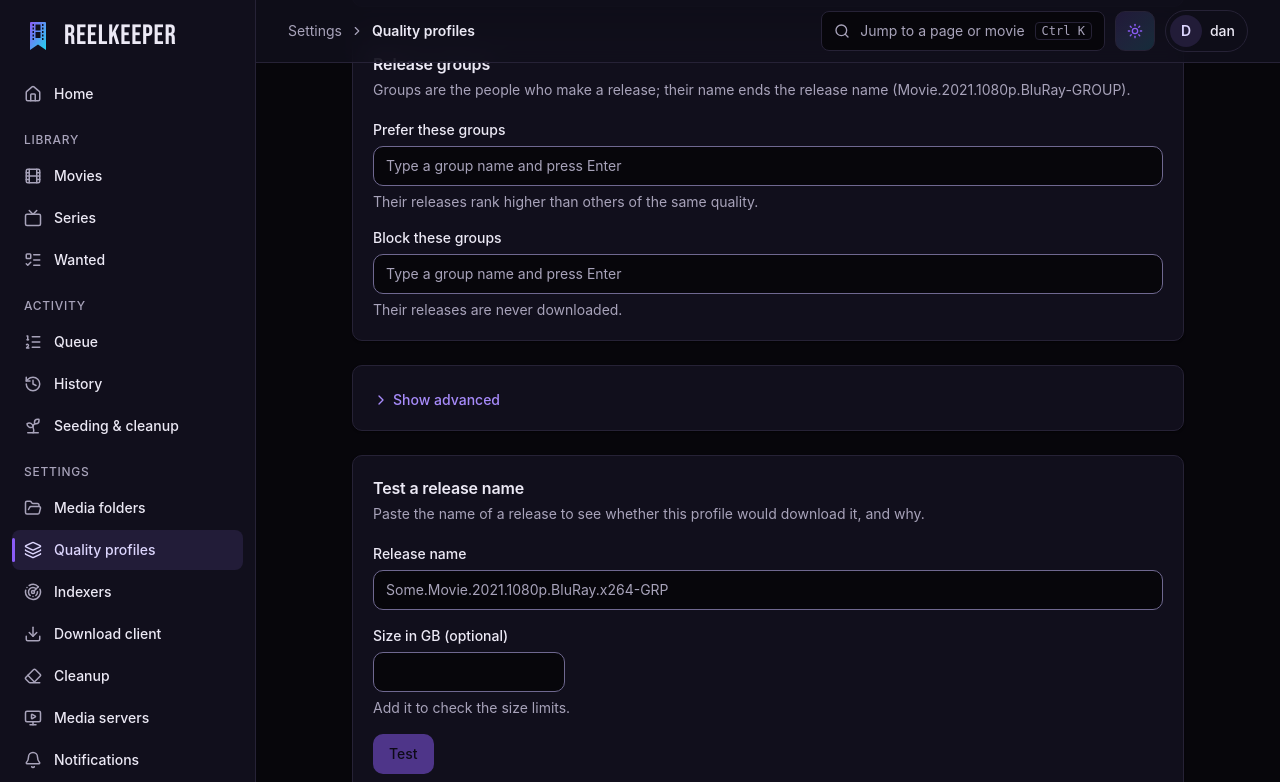
Test case: profile settings page › asks before switching to advanced, then shows the advanced editor
(page scrolled)
What coordinates should you click on to do the following:
click the button "Show advanced"
I would click on:
 (436, 400)
Its box is [373,390,500,410].
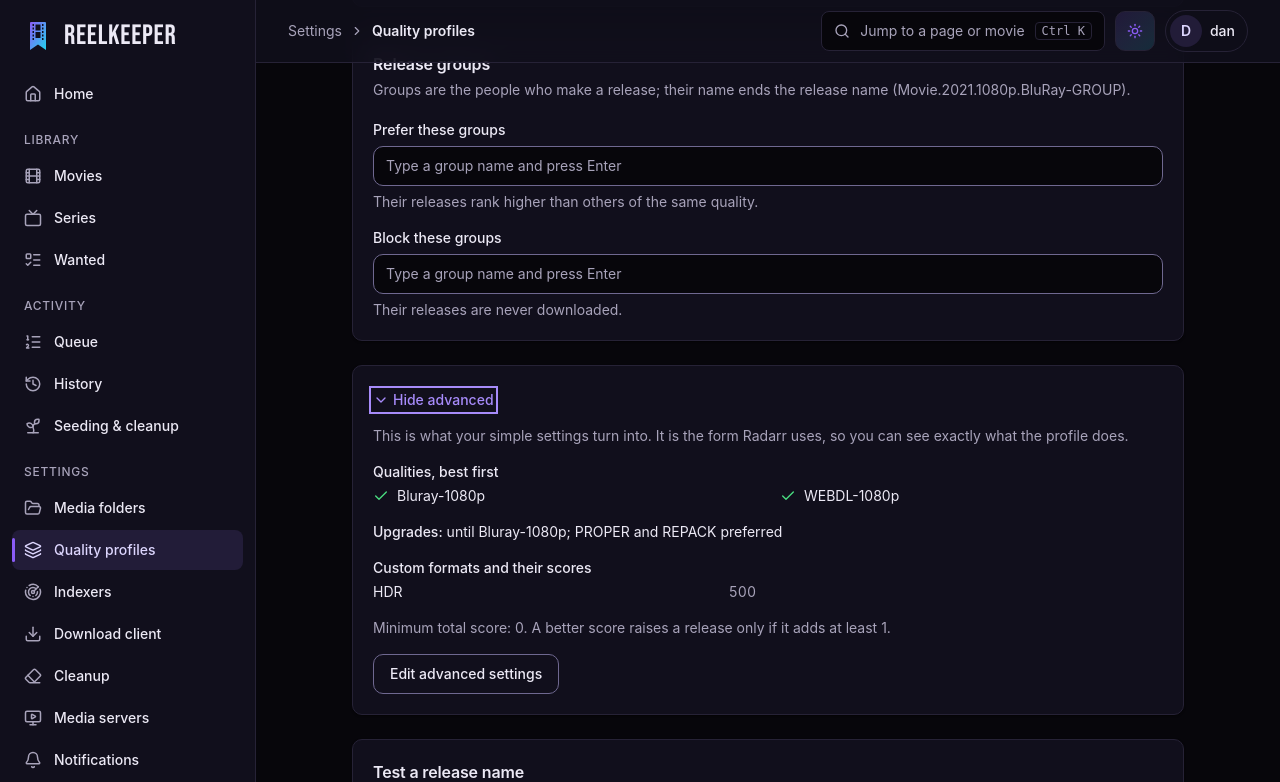
Expected: the heading "Custom formats and their scores" is shown, [373,559,592,576]
What coordinates should you click on to do the following:
click the button "Edit advanced settings"
I would click on:
 (466, 674)
Its box is [373,654,559,694].
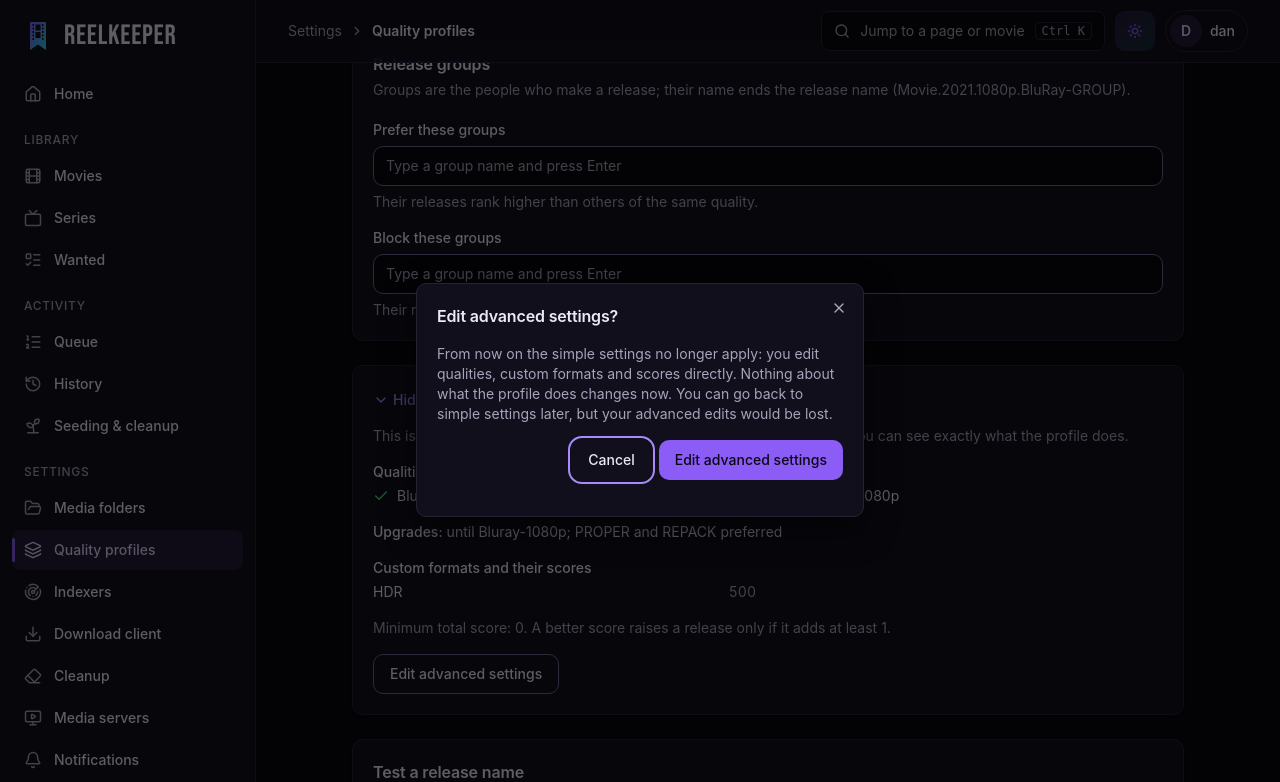
What coordinates should you click on to do the following:
click the button "Edit advanced settings"
I would click on:
 (751, 460)
Its box is [659,440,843,480].
(page scrolled)
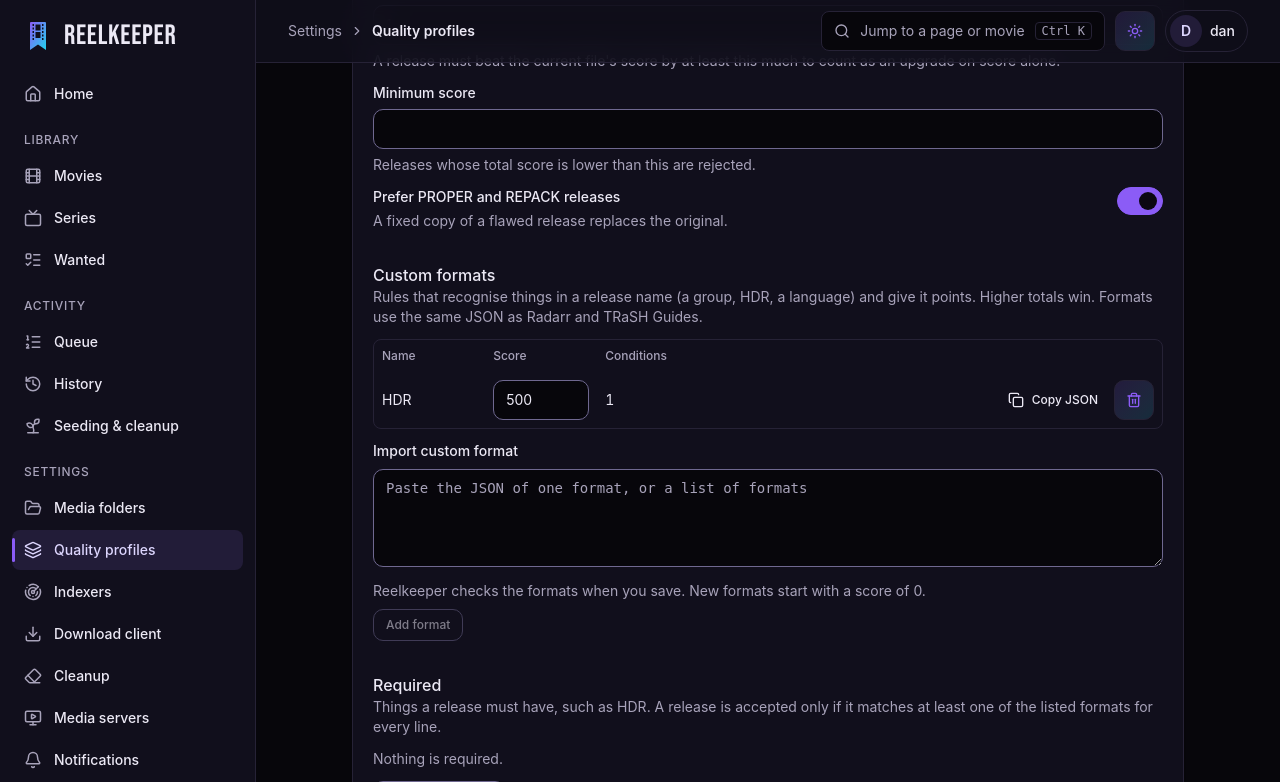
Expected: the number field named "Score for HDR" holds "500", [493,380,589,420]
